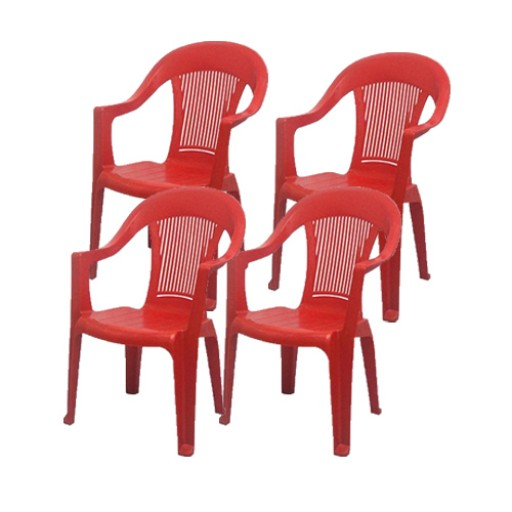Rec_Plastic: (53, 182, 244, 462), (224, 166, 399, 465), (274, 50, 456, 322), (88, 19, 268, 264)
